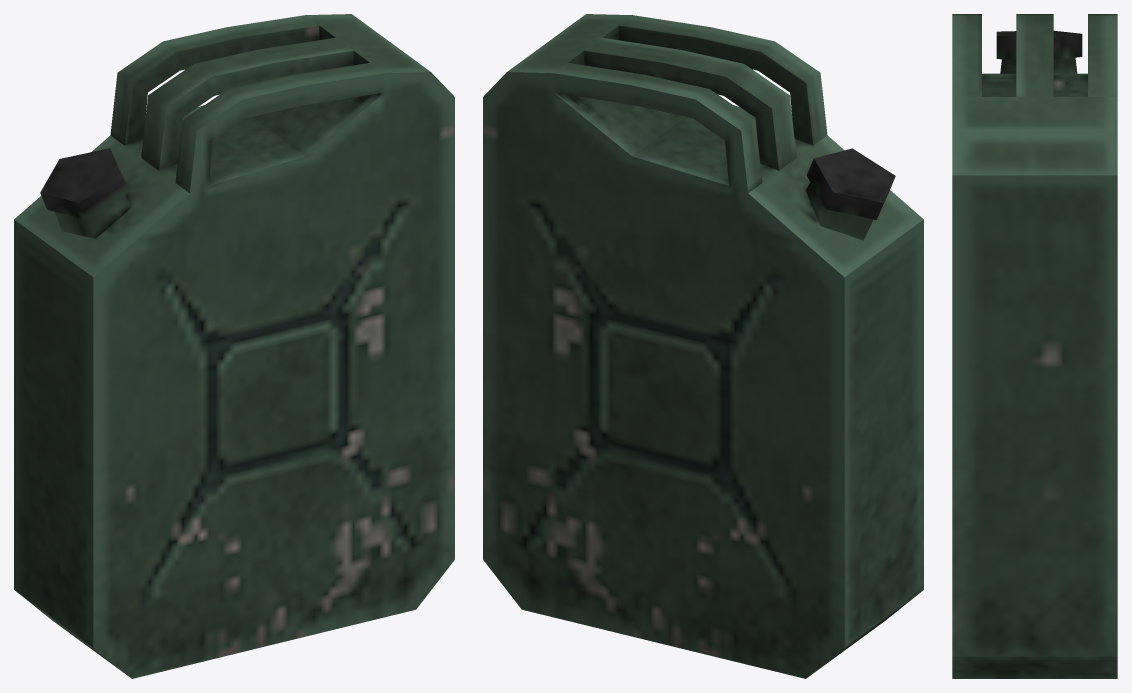
Rendered from jerry_can.fbx.
3 views of the same model, side by side, from view 1: azimuth 30°, elevation 25°; view 2: azimuth 150°, elevation 25°; view 3: azimuth 270°, elevation 25° (orthographic). The views are drawn at different scales.
Visible parts, largest first — view 1: jerry_can; view 2: jerry_can; view 3: jerry_can.
Boxes of the visible parts, left/top/right/bottom form: jerry_can: left=14, top=14, right=454, bottom=678; jerry_can: left=483, top=14, right=923, bottom=678; jerry_can: left=952, top=14, right=1117, bottom=678.
Size of the model in its own units: 32.8 by 47.07 by 12.25.
Materials: 1 (1 with a texture image).
